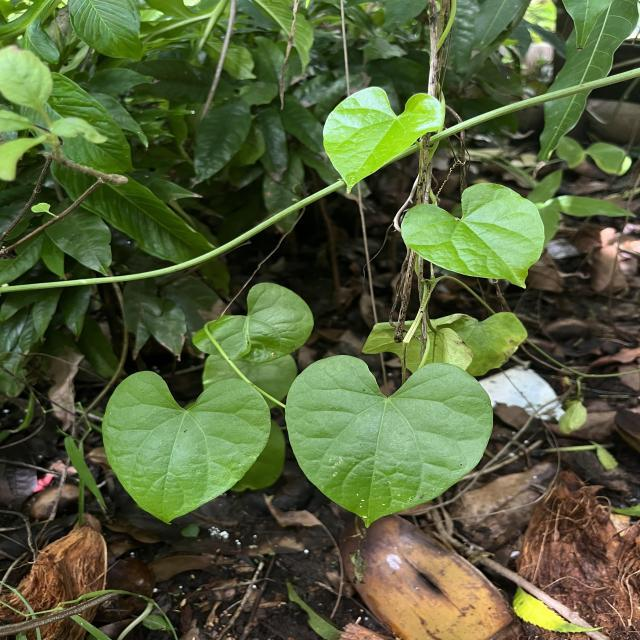Tinospora cordifolia: (283, 352, 496, 530), (100, 369, 274, 527), (399, 182, 546, 292), (322, 85, 444, 196)
